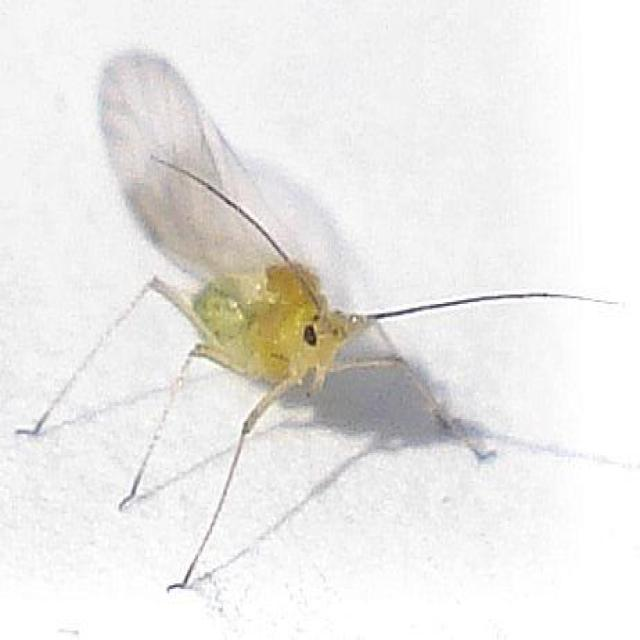Aphids: (53, 35, 614, 582)
